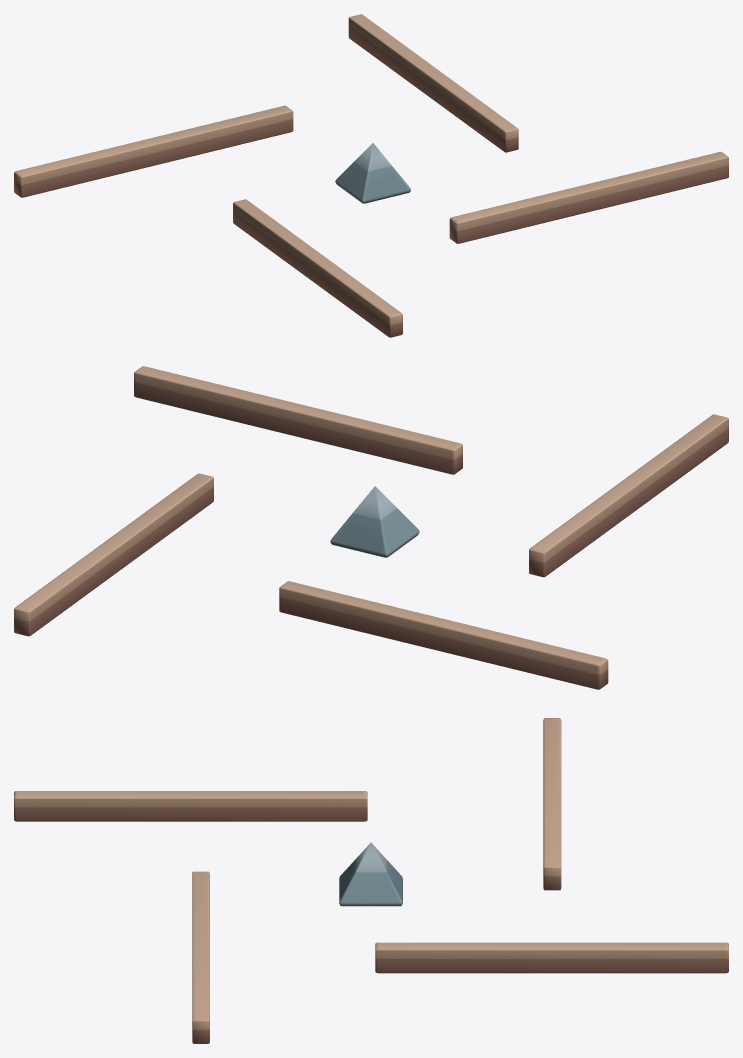
File: Props.fbx
The picture shows the model from 3 angles, top to bottom: view 1: azimuth 30°, elevation 25°; view 2: azimuth 150°, elevation 25°; view 3: azimuth 270°, elevation 25°; orthographic projection. The views are drawn at different scales.
Visible parts, largest first — view 1: Box20-3_1, Box20-3_1 (2), Box20-3_1 (3), Box20-3_1 (1), 三角锥; view 2: Box20-3_1 (2), Box20-3_1, Box20-3_1 (1), Box20-3_1 (3), 三角锥; view 3: Box20-3_1 (3), Box20-3_1 (1), Box20-3_1 (2), Box20-3_1, 三角锥.
Part boxes in pixels (x1,y1,x2,y2): Box20-3_1: [449, 152, 728, 243]; Box20-3_1 (2): [14, 105, 293, 197]; Box20-3_1 (3): [348, 14, 518, 152]; Box20-3_1 (1): [233, 199, 402, 337]; 三角锥: [335, 143, 410, 203]; Box20-3_1 (2): [279, 581, 608, 689]; Box20-3_1: [134, 366, 462, 474]; Box20-3_1 (1): [529, 414, 728, 577]; Box20-3_1 (3): [14, 473, 213, 636]; 三角锥: [330, 486, 419, 557]; Box20-3_1 (3): [375, 942, 728, 973]; Box20-3_1 (1): [14, 791, 367, 821]; Box20-3_1 (2): [543, 718, 561, 890]; Box20-3_1: [192, 871, 209, 1043]; 三角锥: [339, 842, 402, 906].
Bounding box in the file's own units: 40.52 × 3.19 × 40.43.
